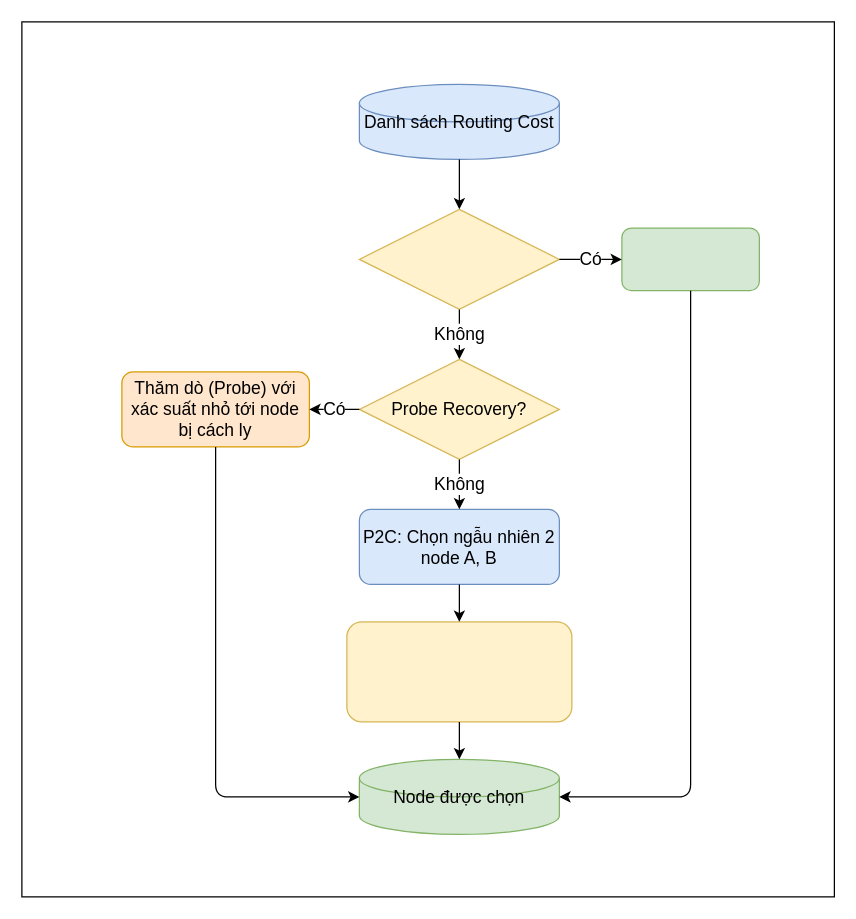
Image size: 856x919. Some labels were removed from this diagram. The box of each missing label's shape, as (x1, y1, x2, y2) in pixels:
Low Load / Warmup?: (358, 208, 559, 309)
Round Robin: (621, 227, 759, 291)
So sánh đa tầng: 1. Final Cost 2. Load Cost 3. Capacity: (346, 621, 572, 722)
